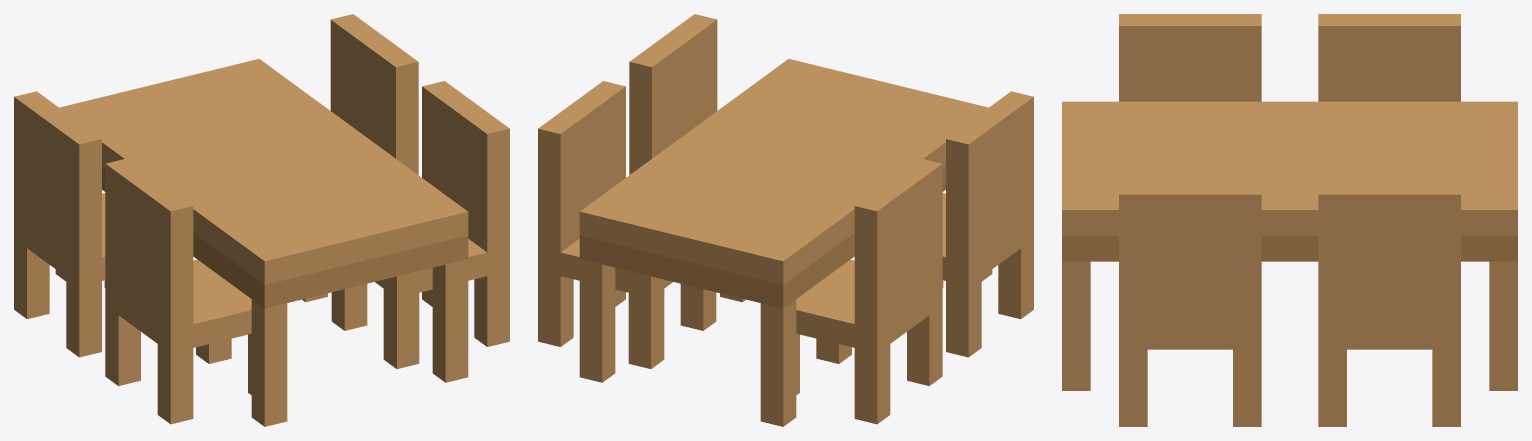
The model's file is BasicTable_v2_WithChairs.obj.
3 renders of one model, left to right at view 1: azimuth 30°, elevation 25°; view 2: azimuth 150°, elevation 25°; view 3: azimuth 270°, elevation 25°, orthographic. The views are drawn at different scales.
Size of the model in its own units: 1.5 by 0.9 by 1.6.
1 material, 1 textured.
